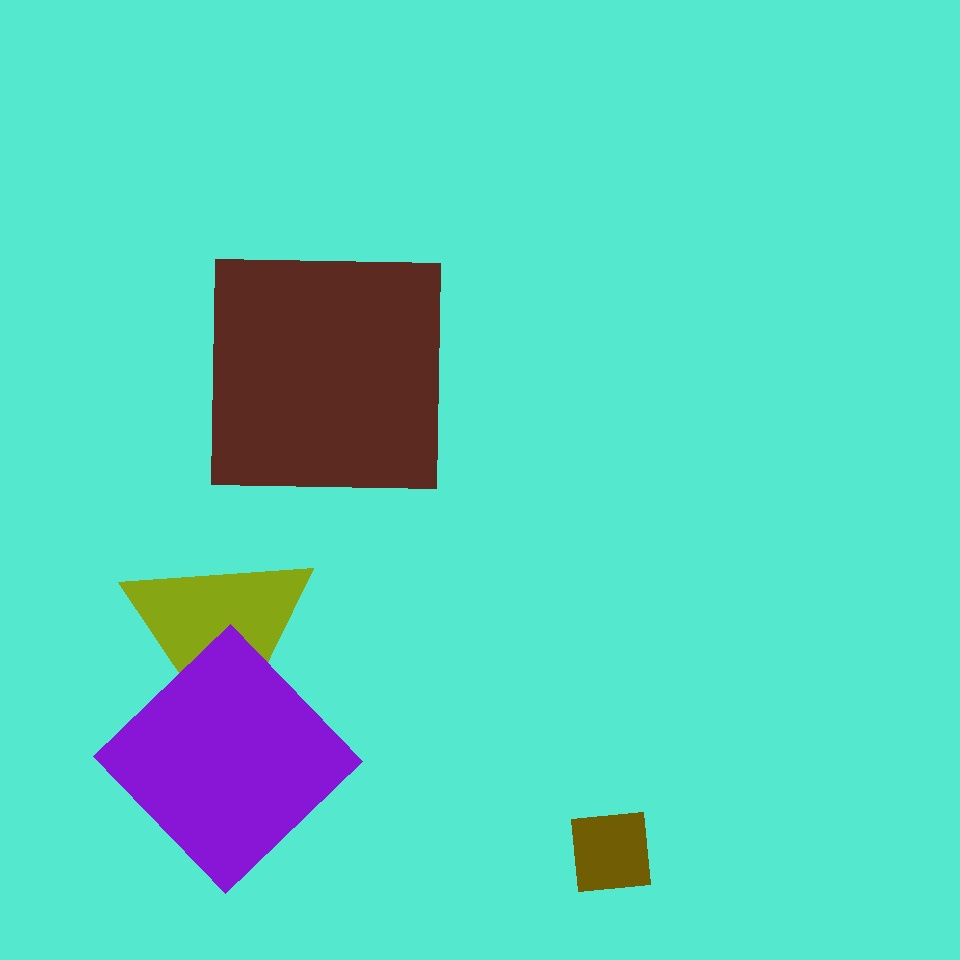circle: (122, 544, 317, 720), (403, 107, 584, 285)
square: (331, 193, 610, 471), (93, 624, 362, 894), (212, 260, 440, 489), (427, 437, 548, 558), (572, 812, 650, 892)
triangle: (540, 11, 646, 116)
